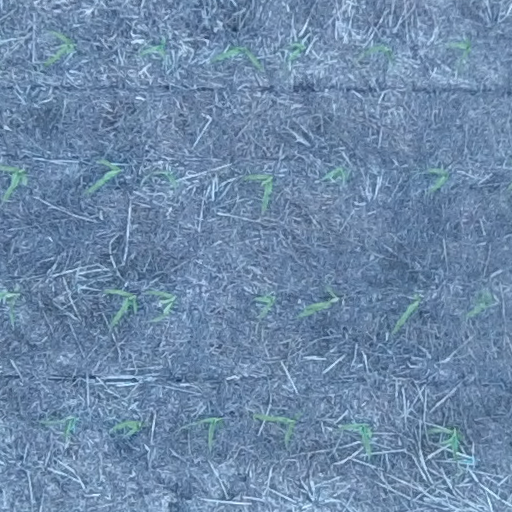planta: (250, 410, 303, 446), (101, 285, 141, 328), (425, 423, 466, 463), (295, 285, 341, 320), (210, 43, 265, 72), (83, 157, 123, 196), (336, 420, 376, 458), (41, 28, 78, 69), (389, 291, 423, 335), (241, 171, 275, 213), (145, 288, 177, 324), (193, 414, 225, 449), (41, 414, 78, 440), (464, 289, 494, 319), (445, 35, 473, 63), (110, 417, 148, 437), (426, 165, 451, 194), (358, 42, 395, 61), (253, 291, 278, 319), (137, 37, 168, 58), (322, 164, 351, 183), (285, 39, 308, 62), (157, 168, 179, 189)
